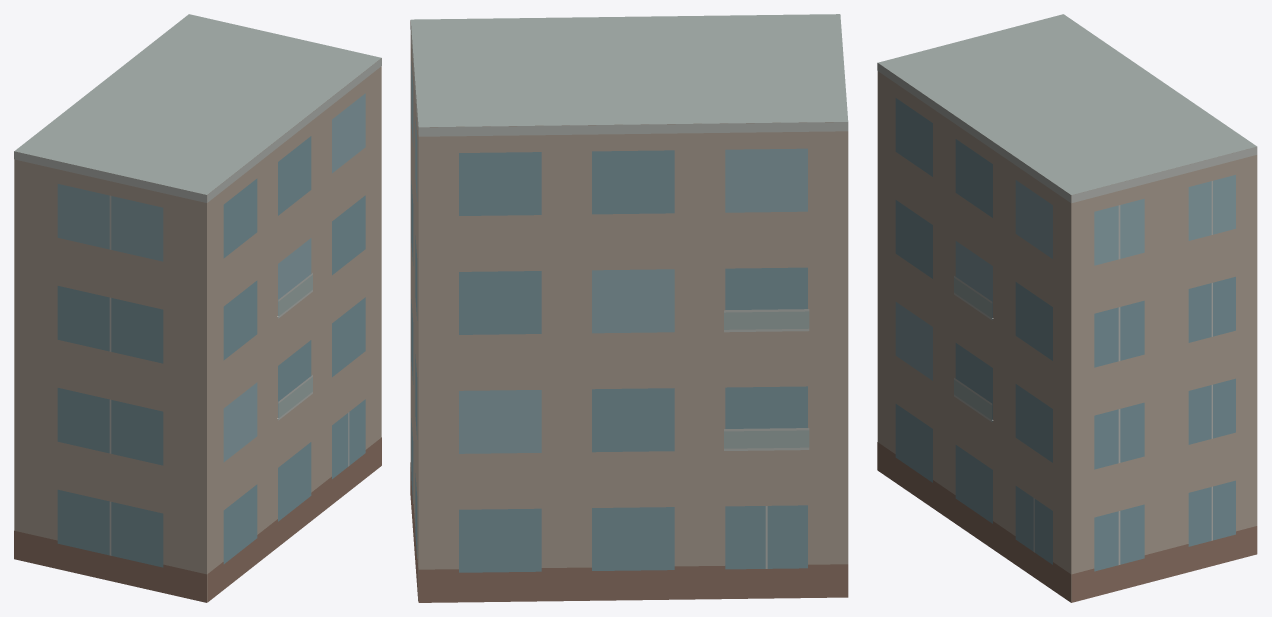
File: residential-a18b0f3f-7fa0-413b-8d00-91b872860354.glb
The picture shows the model from 3 angles, left to right: view 1: azimuth 30°, elevation 25°; view 2: azimuth 150°, elevation 25°; view 3: azimuth 270°, elevation 25°; orthographic projection. The views are drawn at different scales.
Visible parts, largest first — view 1: residential-a18b0f3f-7fa0-413b-8d00-91b872860354.tmp; view 2: residential-a18b0f3f-7fa0-413b-8d00-91b872860354.tmp; view 3: residential-a18b0f3f-7fa0-413b-8d00-91b872860354.tmp.
Boxes of the visible parts, left/top/right/bottom form: residential-a18b0f3f-7fa0-413b-8d00-91b872860354.tmp: left=14, top=14, right=381, bottom=602; residential-a18b0f3f-7fa0-413b-8d00-91b872860354.tmp: left=410, top=14, right=848, bottom=602; residential-a18b0f3f-7fa0-413b-8d00-91b872860354.tmp: left=877, top=14, right=1257, bottom=602.
Size of the model in its own units: 11.64 by 12.2 by 10.31.
